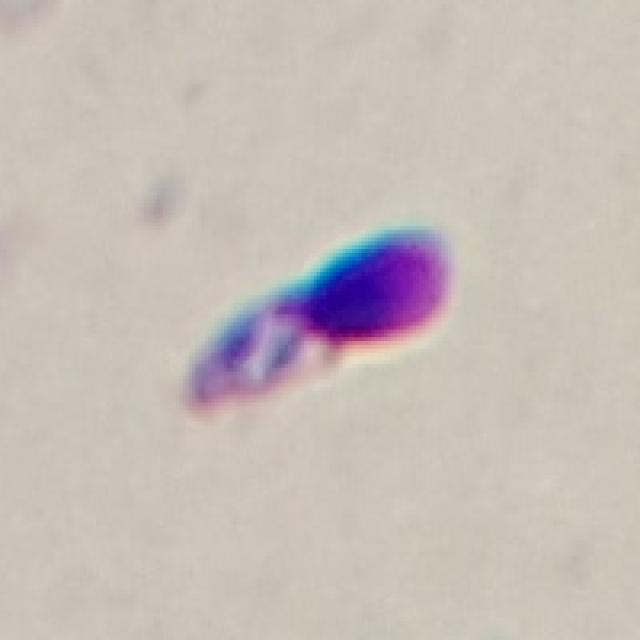abnormal sperm: (158, 211, 469, 413)
